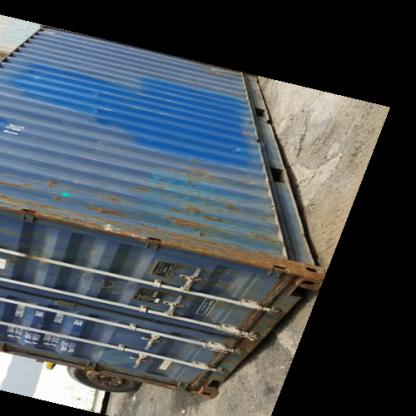Damage: (80, 196, 154, 240), (233, 223, 285, 269), (170, 201, 224, 230), (0, 169, 68, 191), (174, 157, 220, 187), (82, 270, 126, 300), (85, 89, 109, 127), (160, 258, 194, 282), (19, 68, 42, 84), (85, 138, 101, 156), (228, 146, 242, 152)
